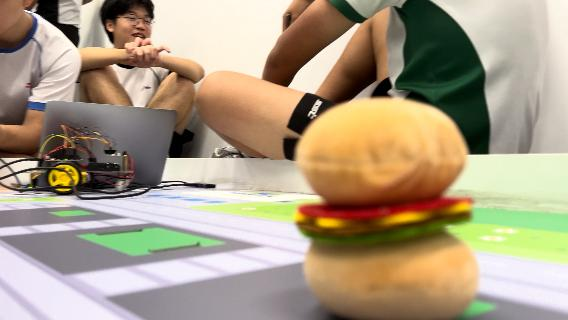burger: (293, 93, 483, 317)
